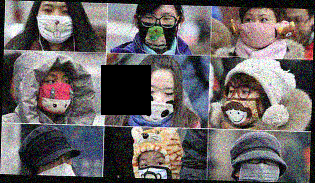with_mask: (33, 3, 75, 44), (222, 81, 262, 124), (138, 9, 179, 50), (37, 71, 75, 115), (137, 82, 177, 119), (241, 12, 276, 49), (236, 159, 281, 182), (38, 152, 73, 176), (138, 153, 169, 179)
